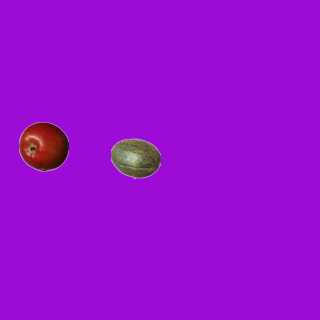Apple Braeburn: (18, 121, 68, 171)
Melon Piel de Sapo: (110, 133, 160, 183)
